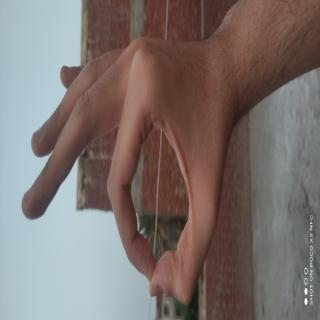Space: (1, 29, 144, 320)
